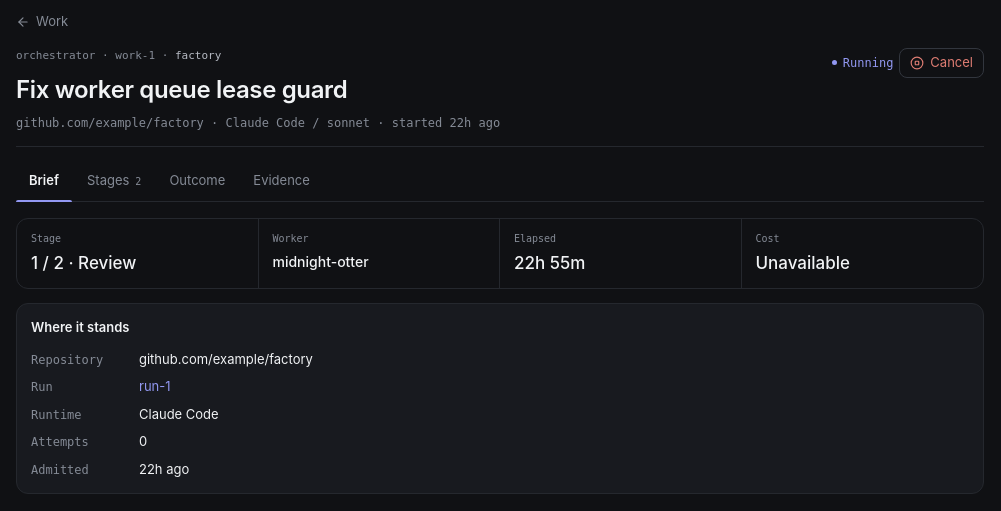
Test: Work detail › shows what one stage passed to the next, and what it did not
Click the tab "Stages2": [114, 181] box [74,161,154,200]
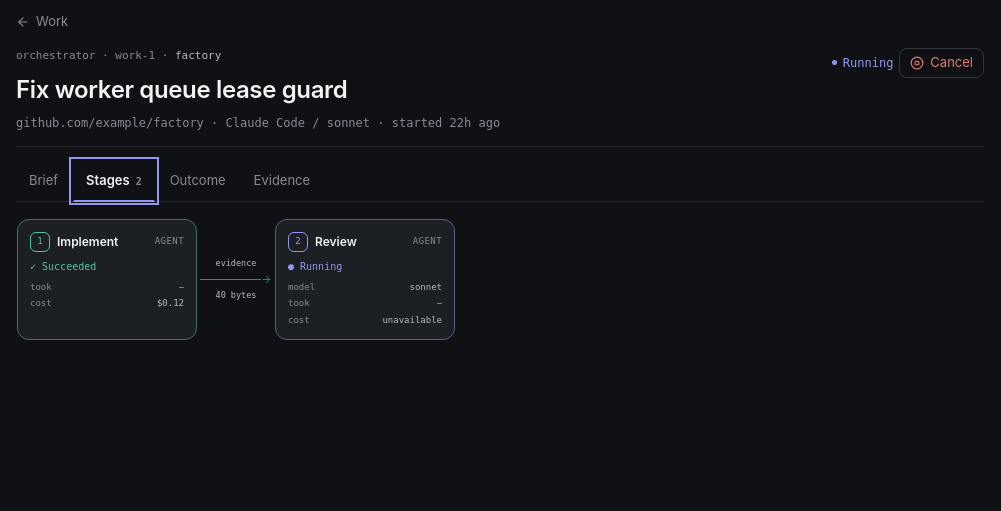
Expected: the text "✓ Succeeded" is shown, [30,260,96,272]
Expected: the text "● Running" is shown, [288,260,342,272]
Click the button with aria-label "View evidence passed from Implement": [236, 279] box [200,257,272,302]
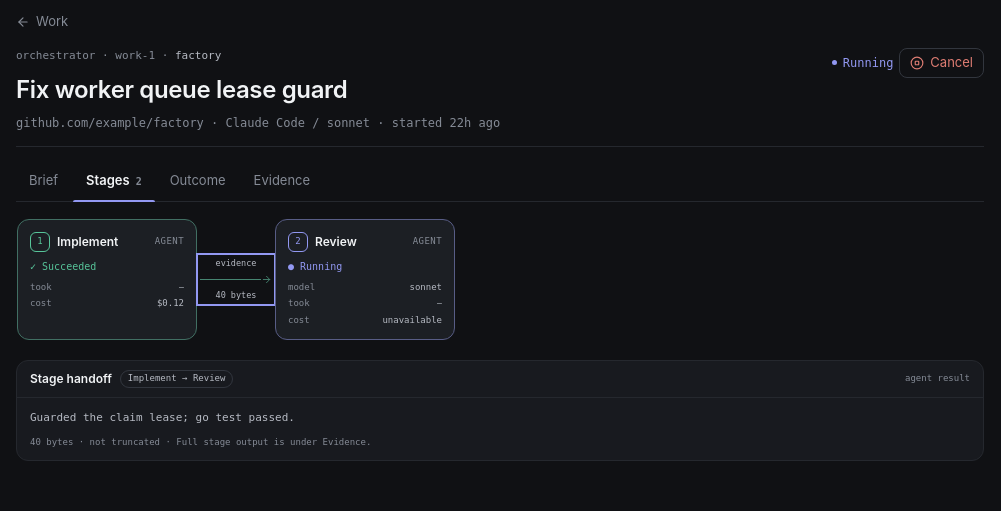
Expected: the text "Guarded the claim lease; go test passed." is shown, [30,411,295,424]
Expected: the text "Stage handoff" is shown, [30,370,112,388]
